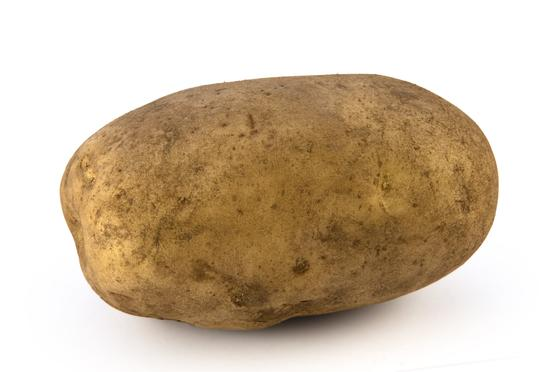potato: (59, 74, 503, 332)
